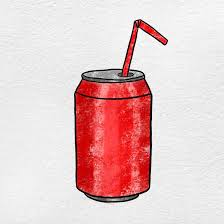can: (73, 66, 151, 205)
